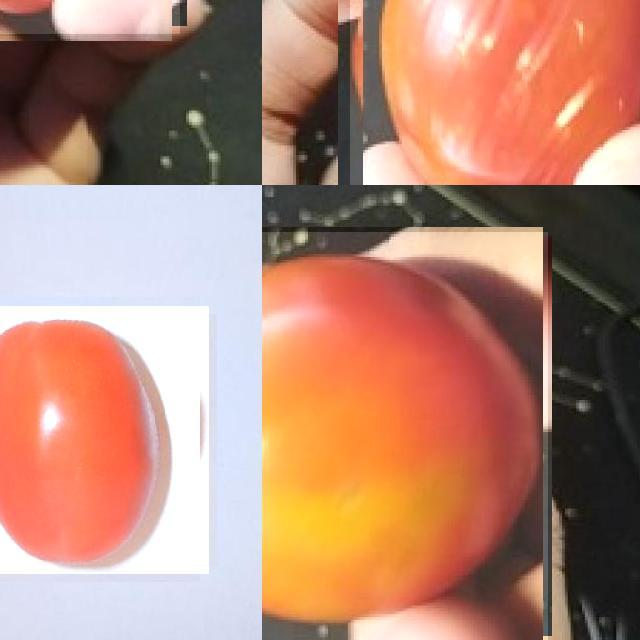Fresh Tomato: (262, 231, 548, 640), (0, 305, 209, 574)
Rotten Tomato: (350, 0, 640, 185)
